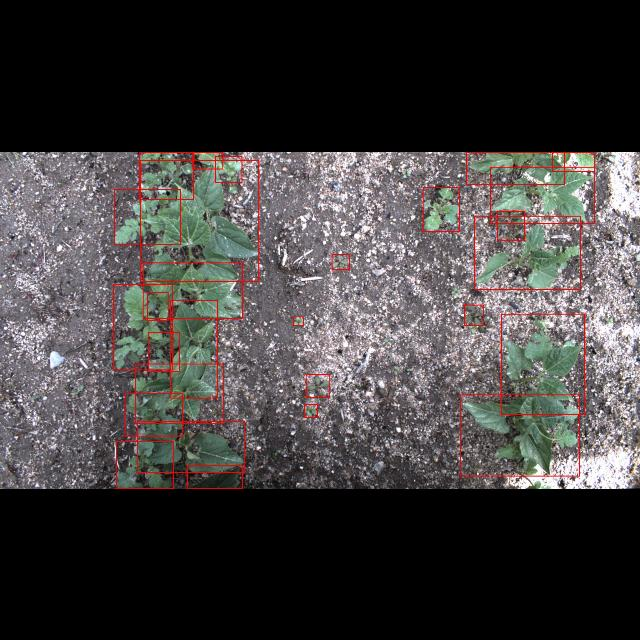crop: (141, 159, 259, 281), (460, 394, 580, 476), (501, 314, 585, 414), (475, 215, 581, 289), (490, 165, 594, 222), (144, 262, 242, 318), (138, 422, 245, 472), (135, 363, 223, 423), (170, 300, 218, 398), (466, 151, 564, 183), (188, 466, 242, 488)
weed: (114, 284, 172, 370), (114, 188, 180, 244), (116, 442, 174, 488), (125, 392, 183, 436), (140, 152, 194, 198), (423, 187, 459, 231), (148, 332, 180, 371), (498, 210, 524, 240), (215, 154, 242, 182), (552, 152, 594, 170), (148, 292, 168, 320), (306, 374, 330, 396), (193, 152, 223, 168), (464, 304, 484, 326), (332, 253, 350, 269), (304, 404, 318, 416), (293, 316, 303, 326)
